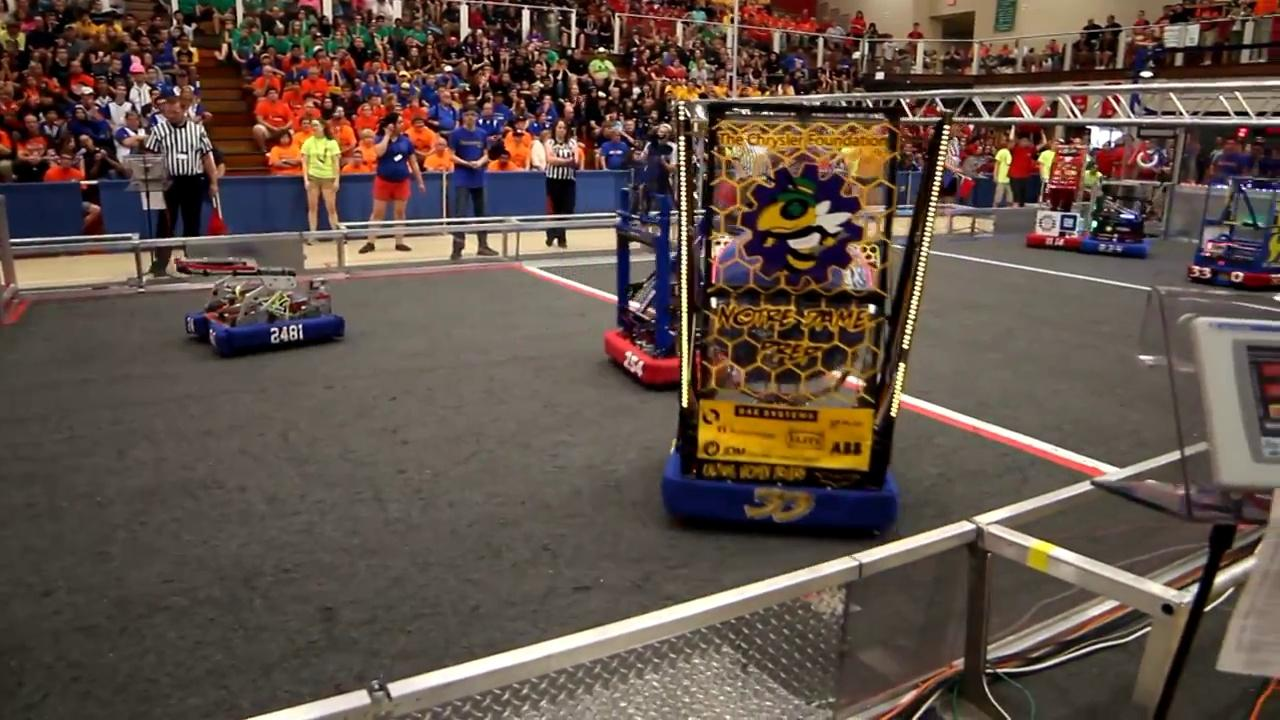robot: (651, 91, 947, 532), (602, 181, 695, 390), (178, 259, 354, 363), (1185, 170, 1280, 294), (1082, 183, 1158, 260), (1026, 201, 1090, 254)
